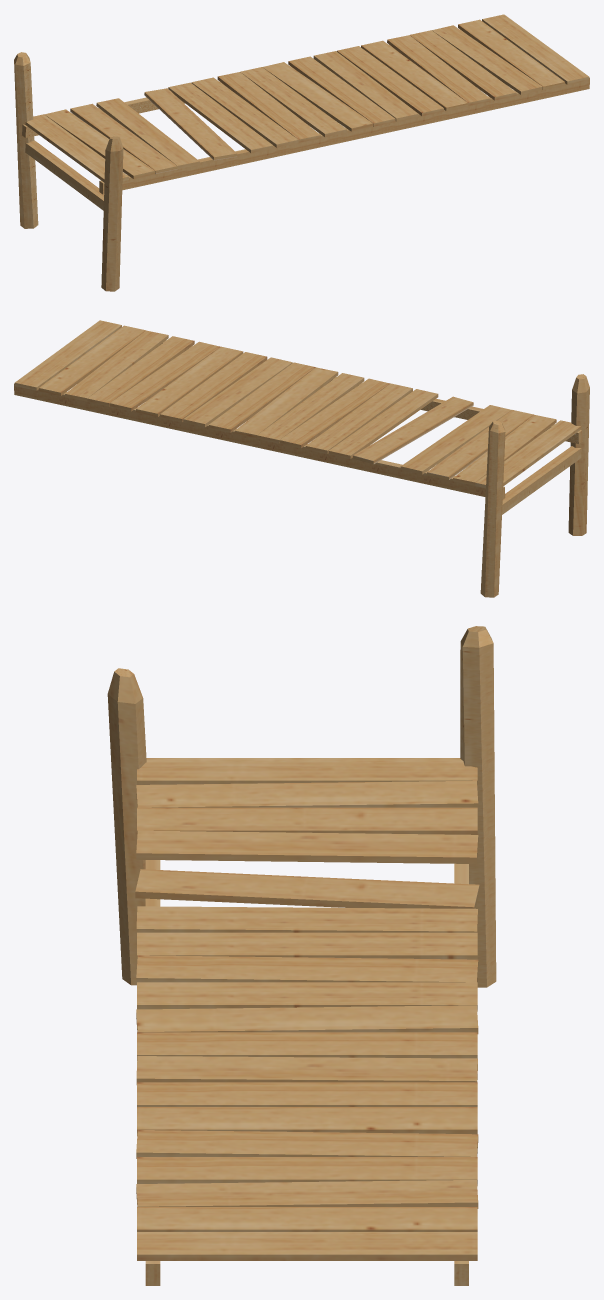
The model's file is Dock.fbx.
3 views of the same model, one above another, from view 1: azimuth 30°, elevation 25°; view 2: azimuth 150°, elevation 25°; view 3: azimuth 270°, elevation 25° (orthographic). The views are drawn at different scales.
Visible parts, largest first — view 1: Cube.001; view 2: Cube.001; view 3: Cube.001.
Part boxes in pixels (x1,y1,x2,y2): Cube.001: (14,14,589,291); Cube.001: (14,320,589,597); Cube.001: (107,626,496,1285).
Size of the model in its own units: 177 by 59.55 by 60.43.
